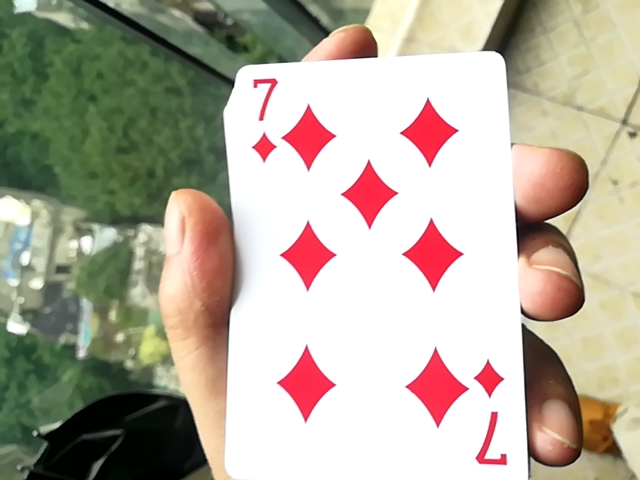fk 7: (199, 31, 525, 480)
